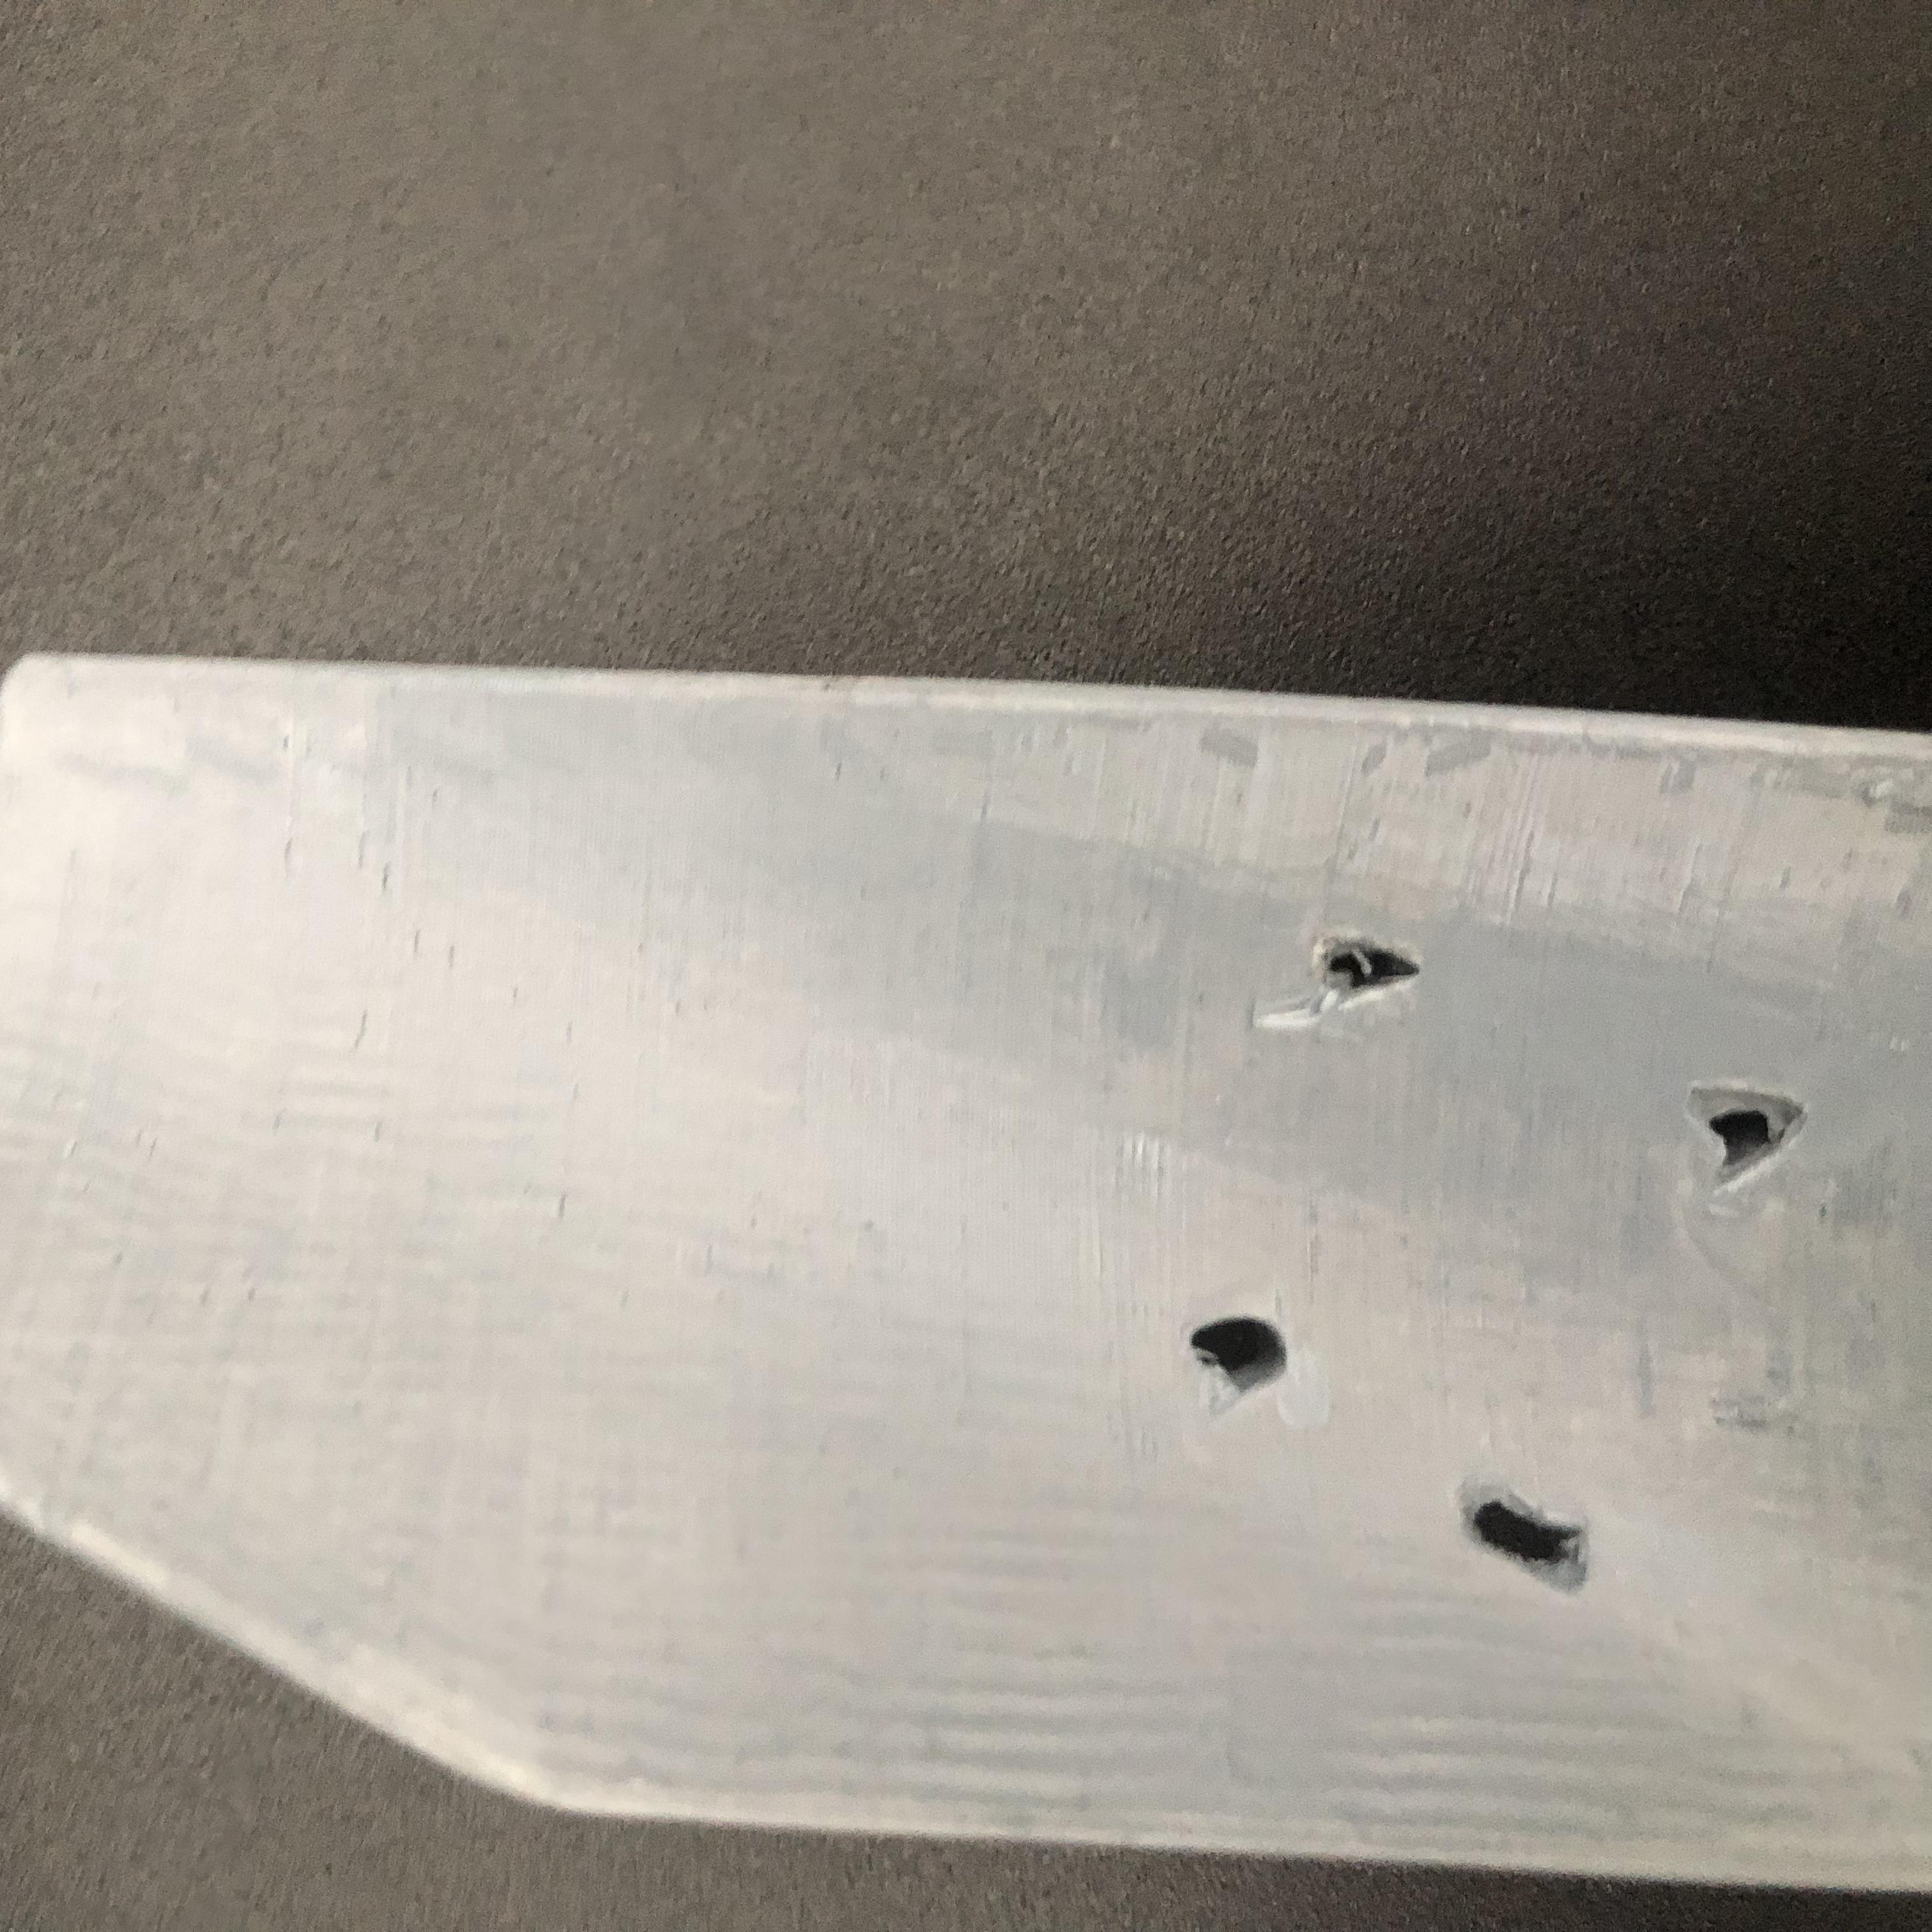breakdown: (1187, 961, 1794, 1592)
